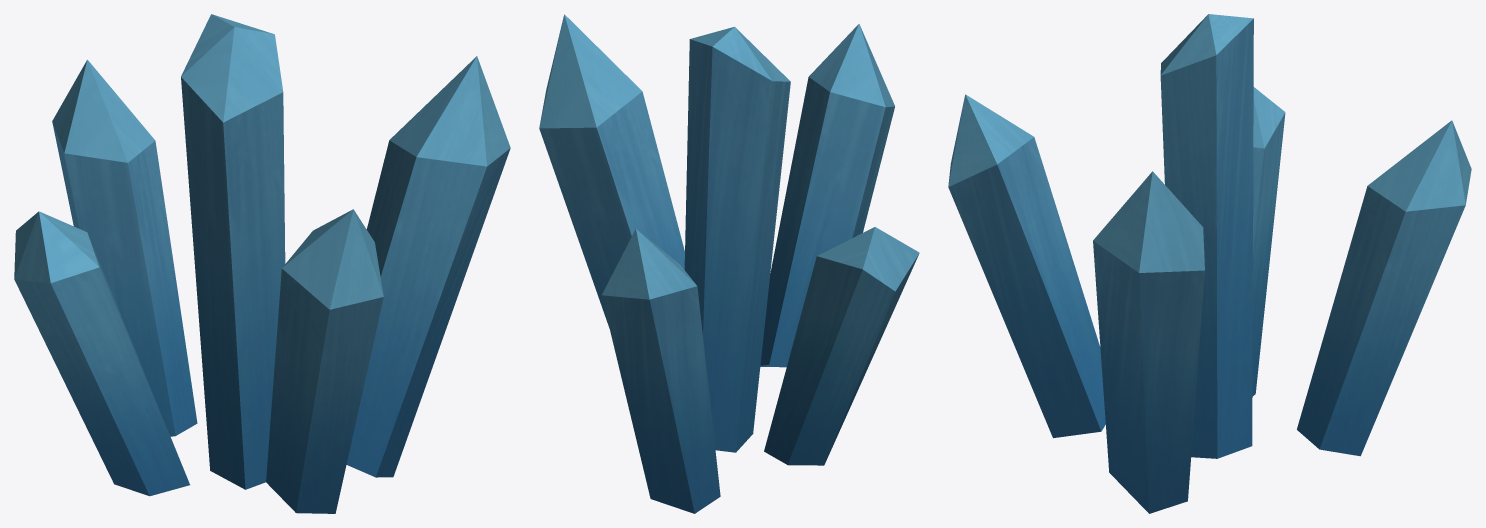
The model's file is Crtystal_5.FBX.
3 renders of one model, left to right at view 1: azimuth 30°, elevation 25°; view 2: azimuth 150°, elevation 25°; view 3: azimuth 270°, elevation 25°, orthographic. The views are drawn at different scales.
Parts seen in each view (by area): view 1: Cylinder003; view 2: Cylinder003; view 3: Cylinder003.
Part boxes in pixels (x1=…): Cylinder003: x1=14, y1=14, x2=510, y2=513; Cylinder003: x1=539, y1=14, x2=919, y2=513; Cylinder003: x1=948, y1=14, x2=1471, y2=513.
Bounding box in the file's own units: 46.89 × 47.06 × 50.71.
